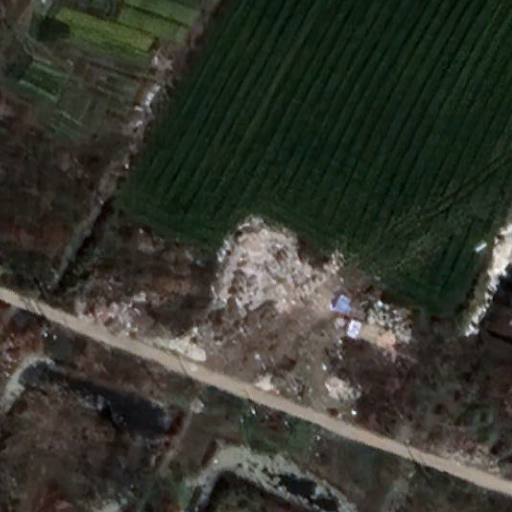msw: (212, 225, 330, 318)
